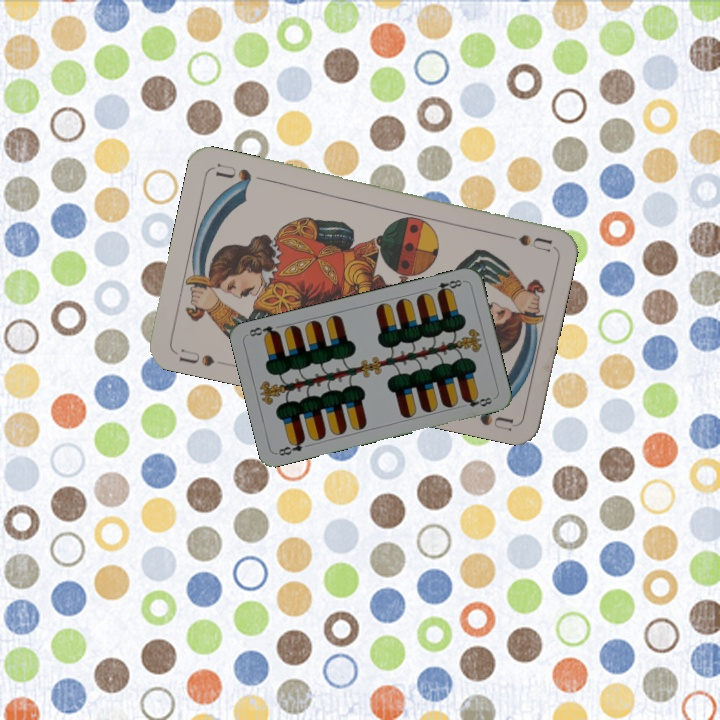E8: (274, 435, 308, 459), (433, 275, 467, 297)
SU: (494, 229, 554, 254), (172, 344, 217, 370)
